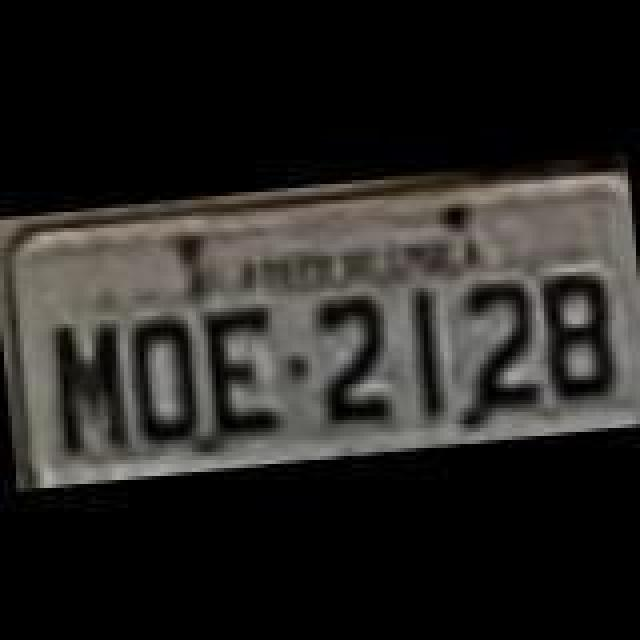1: (400, 284, 448, 420)
2: (456, 274, 552, 414), (310, 290, 394, 430)
8: (536, 264, 616, 408)
E: (192, 296, 288, 440)
M: (48, 312, 136, 456)
O: (124, 306, 212, 446)
